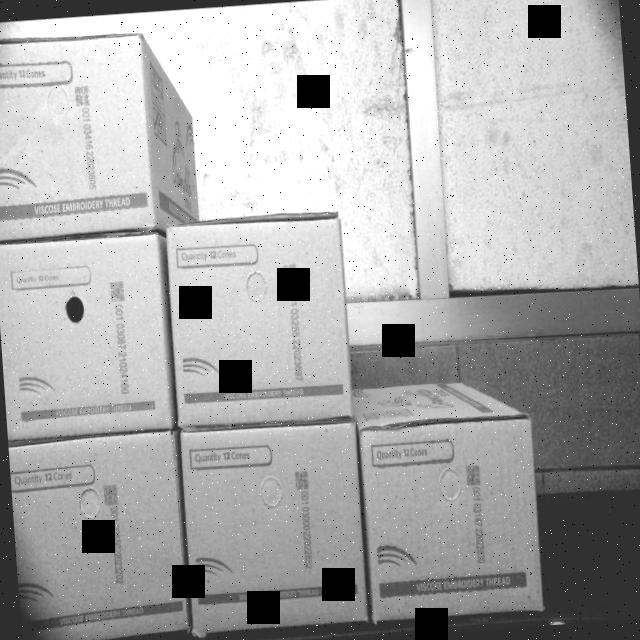box: (166, 213, 356, 431), (182, 422, 367, 640), (356, 412, 548, 620), (7, 431, 183, 640), (0, 232, 174, 429), (0, 27, 154, 238)
